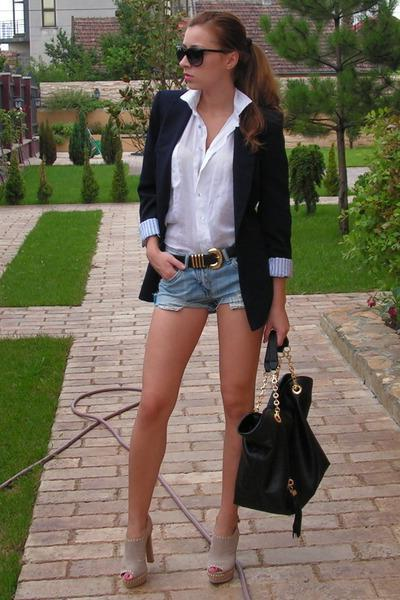Shorts: (143, 243, 281, 314)
jacket: (134, 86, 296, 331)
short sleeve shirt: (158, 87, 258, 256)
